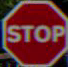Stop: (1, 5, 63, 56)
